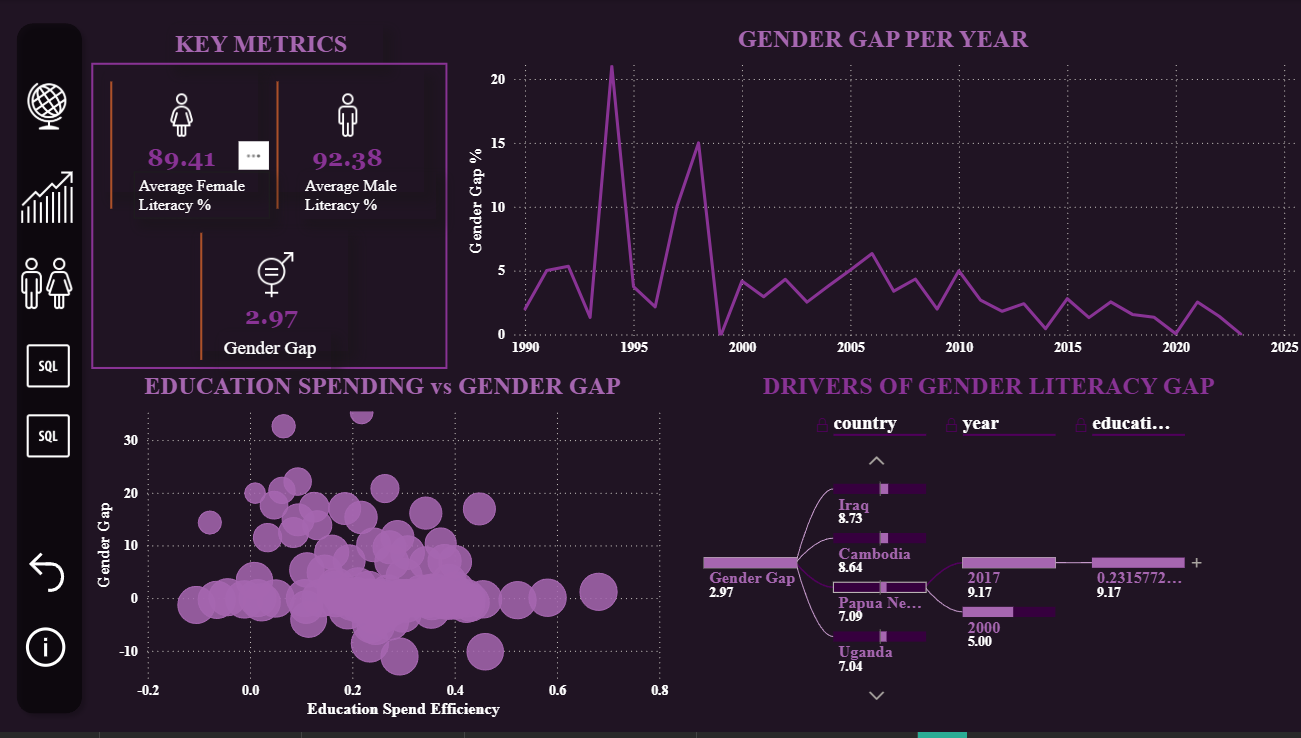

The page's visual inventory and layout, read from the dashboard file:
{"tool":"powerbi","page":{"name":"Gender & Equity ","canvas":[1280,720],"ordinal":2},"visuals":[{"type":"shape","box":[7.4,14.7,82.2,695.7],"z":0},{"type":"image","box":[20.9,79.8,50,50],"z":1000},{"type":"image","box":[20.9,254,50.3,50.3],"z":2000},{"type":"image","box":[20.9,169.3,50.3,50.3],"z":3000},{"type":"actionButton","box":[19.6,611,50.3,50.3],"z":4000},{"type":"actionButton","box":[20.9,537.4,50.3,50.3],"z":5000},{"type":"textbox","box":[166.9,25.8,208.6,39.3],"z":6000},{"type":"shape","box":[89.6,62.6,349.7,300.6],"z":7000},{"type":"cardVisual","title":"Global Literacy Rate","fields":{"Data":["Literacy Data.Gender Gap"]},"box":[191.9,226,150,120],"z":8000},{"type":"textbox","box":[215,326.6,110.4,39.3],"z":9000},{"type":"shape","box":[193.9,229.4,7.4,125.2],"z":10000},{"type":"cardVisual","title":"Global Literacy Rate","fields":{"Data":["Avg(Literacy Data.youth_literacy_rate_M)"]},"box":[266.2,69.9,150,120],"z":11000},{"type":"textbox","box":[294.5,169.3,133.7,46.6],"z":12000},{"type":"shape","box":[268.4,81,7.4,125],"z":13000},{"type":"cardVisual","title":"Global Literacy Rate","fields":{"Data":["Avg(Literacy Data.youth_literacy_rate_F)"]},"box":[103.3,69.9,150,120],"z":14000},{"type":"textbox","box":[131.6,169.3,133.7,46.6],"z":15000},{"type":"shape","box":[105.6,81,7.4,125],"z":16000},{"type":"lineChart","title":"GENDER GAP PER YEAR","fields":{"Category":["Literacy Data.year"],"Y":["Literacy Data.Gender Gap"]},"box":[454,25.8,825.8,333.7],"z":17000},{"type":"scatterChart","title":"EDUCATION SPENDING vs GENDER GAP","fields":{"X":["Avg(Literacy Data.education_spend_efficiency)"],"Y":["Literacy Data.Gender Gap"],"Category":["Literacy Data.country"],"Size":["Avg(Literacy Data.youth_literacy_rate_F)"]},"box":[89.6,365.6,571.8,344.8],"z":18000},{"type":"decompositionTreeVisual","title":"DRIVERS OF GENDER LITERACY GAP","fields":{"ExplainBy":["Literacy Data.country","Literacy Data.year","Literacy Data.education_spend_efficiency","Literacy Data.continent","Literacy Data.log_gdp"],"Analyze":["Literacy Data.Gender Gap"]},"box":[661.4,365.6,618.4,344.8],"z":19000},{"type":"image","box":[22.1,335,50.3,50.3],"z":19001},{"type":"image","box":[22.1,403.7,50.3,50.3],"z":19002}]}

Visuals, with their boxes on the page's 1280x720 design canvas (x1, y1, x2, y2). These are canvas units, not pixel positions in the 1301x738 screenshot, which may show the page scaled, cropped or inside an application window:
shape: [x1=7, y1=15, x2=90, y2=710]
image: [x1=21, y1=80, x2=71, y2=130]
image: [x1=21, y1=254, x2=71, y2=304]
image: [x1=21, y1=169, x2=71, y2=220]
actionButton: [x1=20, y1=611, x2=70, y2=661]
actionButton: [x1=21, y1=537, x2=71, y2=588]
textbox: [x1=167, y1=26, x2=376, y2=65]
shape: [x1=90, y1=63, x2=439, y2=363]
"Global Literacy Rate" cardVisual: [x1=192, y1=226, x2=342, y2=346]
textbox: [x1=215, y1=327, x2=325, y2=366]
shape: [x1=194, y1=229, x2=201, y2=355]
"Global Literacy Rate" cardVisual: [x1=266, y1=70, x2=416, y2=190]
textbox: [x1=294, y1=169, x2=428, y2=216]
shape: [x1=268, y1=81, x2=276, y2=206]
"Global Literacy Rate" cardVisual: [x1=103, y1=70, x2=253, y2=190]
textbox: [x1=132, y1=169, x2=265, y2=216]
shape: [x1=106, y1=81, x2=113, y2=206]
"GENDER GAP PER YEAR" lineChart: [x1=454, y1=26, x2=1280, y2=360]
"EDUCATION SPENDING vs GENDER GAP" scatterChart: [x1=90, y1=366, x2=661, y2=710]
"DRIVERS OF GENDER LITERACY GAP" decompositionTreeVisual: [x1=661, y1=366, x2=1280, y2=710]
image: [x1=22, y1=335, x2=72, y2=385]
image: [x1=22, y1=404, x2=72, y2=454]
